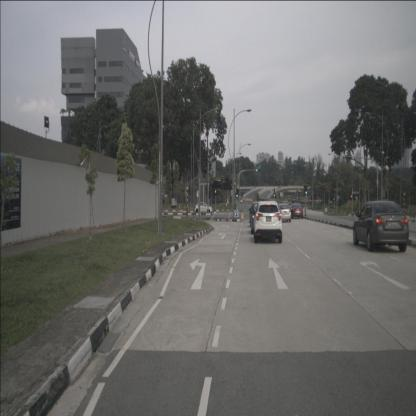vehicle-car: (353, 200, 409, 252), (253, 200, 283, 243), (249, 199, 271, 235), (250, 200, 271, 234), (277, 203, 292, 222), (194, 201, 213, 214), (289, 203, 303, 219)
